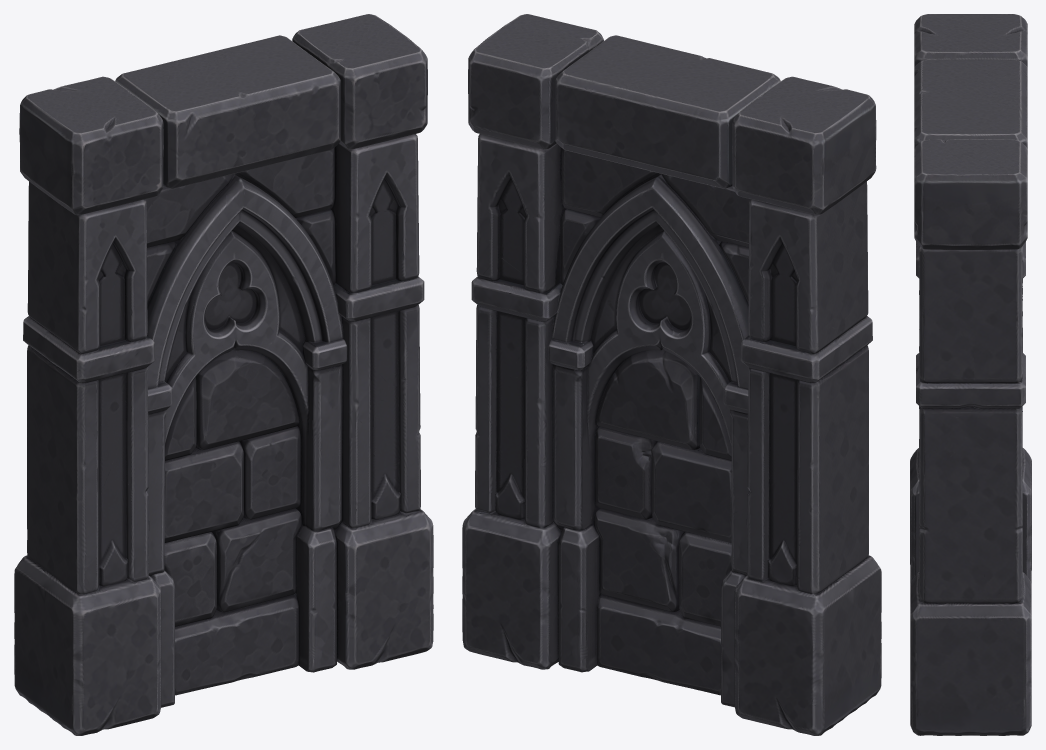
File: ENV_Wall_Straight_One.fbx
The picture shows the model from 3 angles, left to right: view 1: azimuth 30°, elevation 25°; view 2: azimuth 150°, elevation 25°; view 3: azimuth 270°, elevation 25°; orthographic projection. The views are drawn at different scales.
Visible parts, largest first — view 1: Mesh_0; view 2: Mesh_0; view 3: Mesh_0.
Boxes of the visible parts, x1,y1,x2,y2 form: Mesh_0: (14, 14, 433, 735); Mesh_0: (462, 14, 881, 735); Mesh_0: (910, 14, 1031, 735).
Size of the model in its own units: 120 by 190 by 37.39.
1 material, 1 textured.
